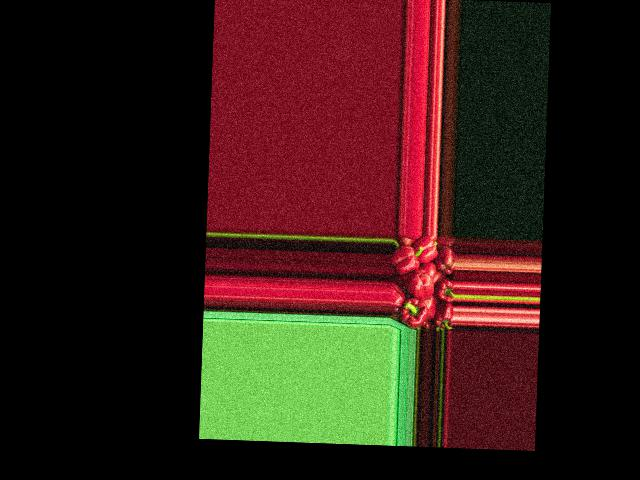bell_pepper: (434, 303, 453, 329)
